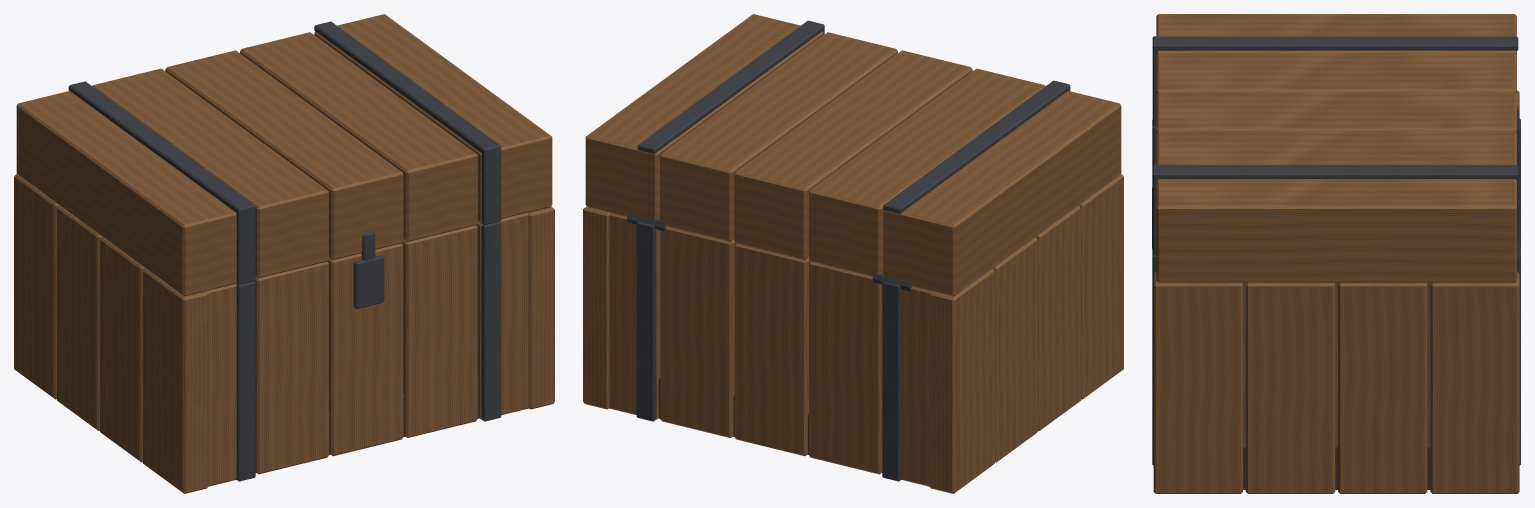
Rendered from chest.glb.
The picture shows the model from 3 angles, left to right: view 1: azimuth 30°, elevation 25°; view 2: azimuth 150°, elevation 25°; view 3: azimuth 270°, elevation 25°; orthographic projection. The views are drawn at different scales.
Visible parts, largest first — view 1: chest_body, chest_lid_hinge; view 2: chest_body, chest_lid_hinge; view 3: chest_lid_hinge, chest_body.
Part boxes in pixels (x1=…): chest_body: x1=14, y1=174, x2=554, y2=493; chest_lid_hinge: x1=16, y1=14, x2=552, y2=296; chest_body: x1=583, y1=174, x2=1123, y2=493; chest_lid_hinge: x1=585, y1=14, x2=1121, y2=296; chest_lid_hinge: x1=1152, y1=14, x2=1519, y2=282; chest_body: x1=1152, y1=90, x2=1520, y2=493.
Bounding box in the file's own units: 1 × 0.7 × 0.7995.
3 materials, 3 textured.
